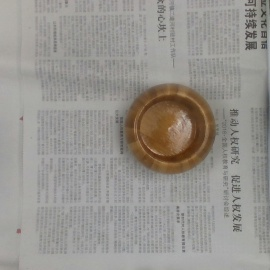chess: (127, 82, 216, 176)
